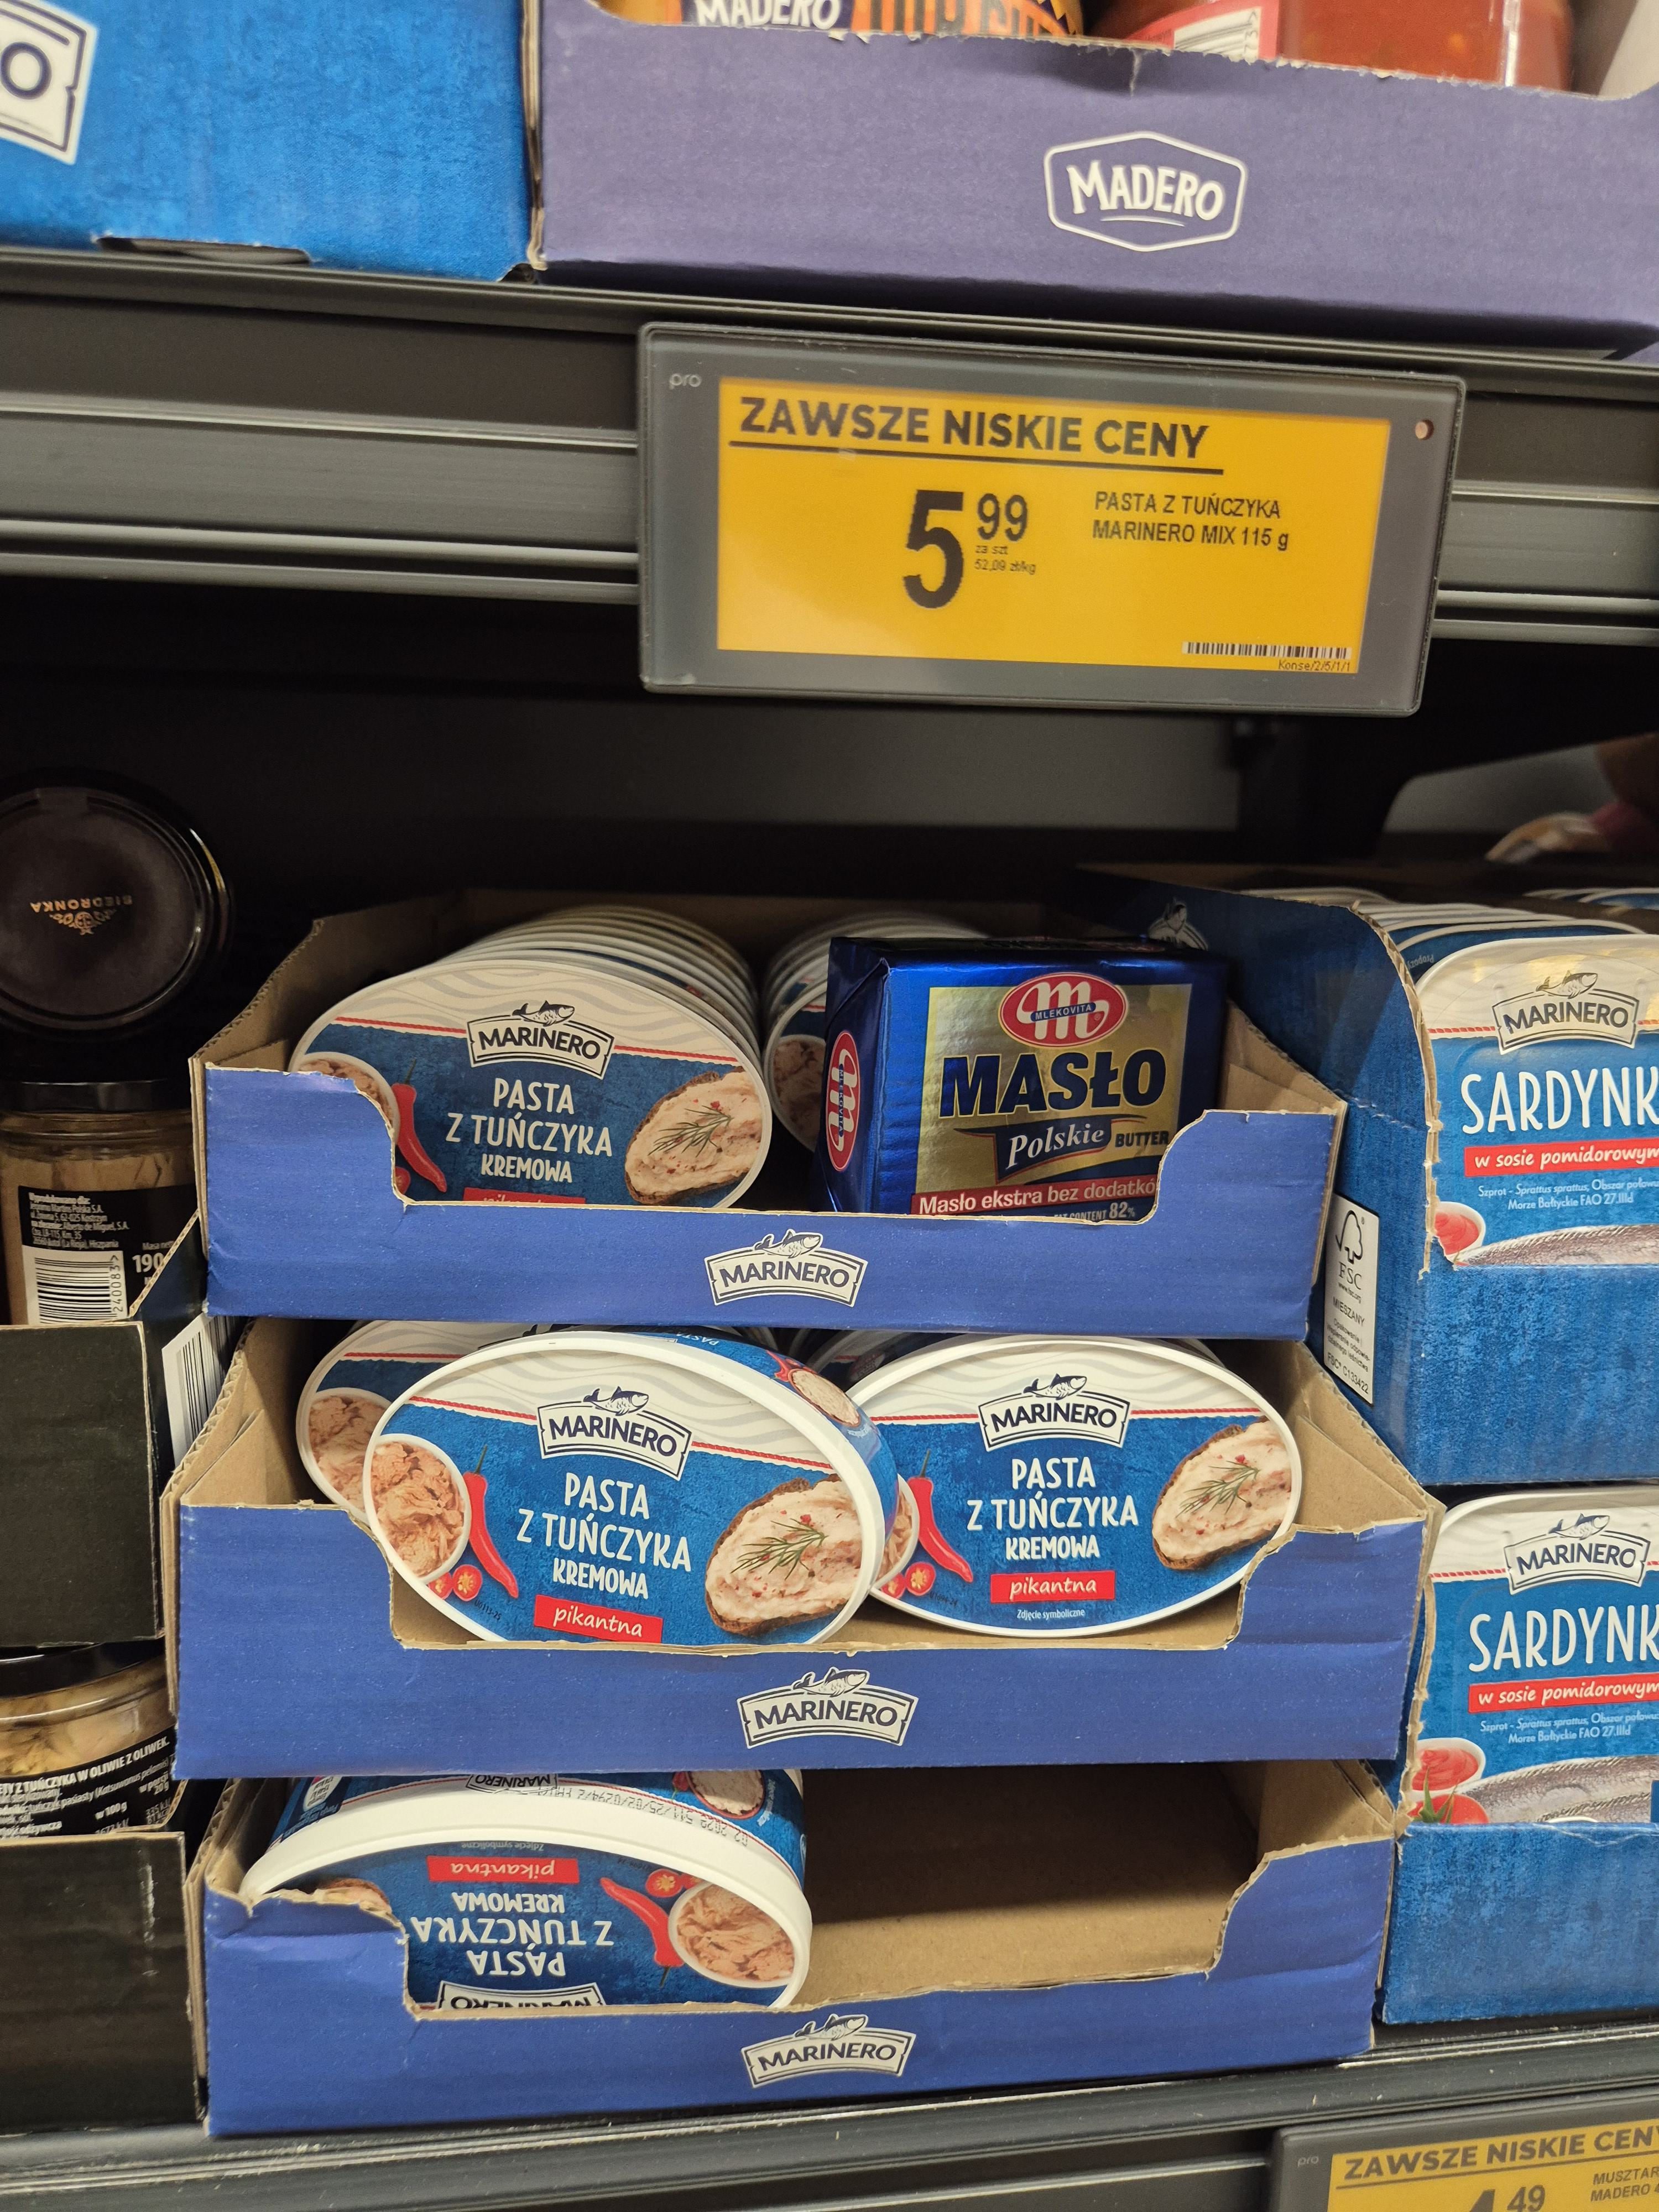Butter: (816, 916, 1290, 1242)
